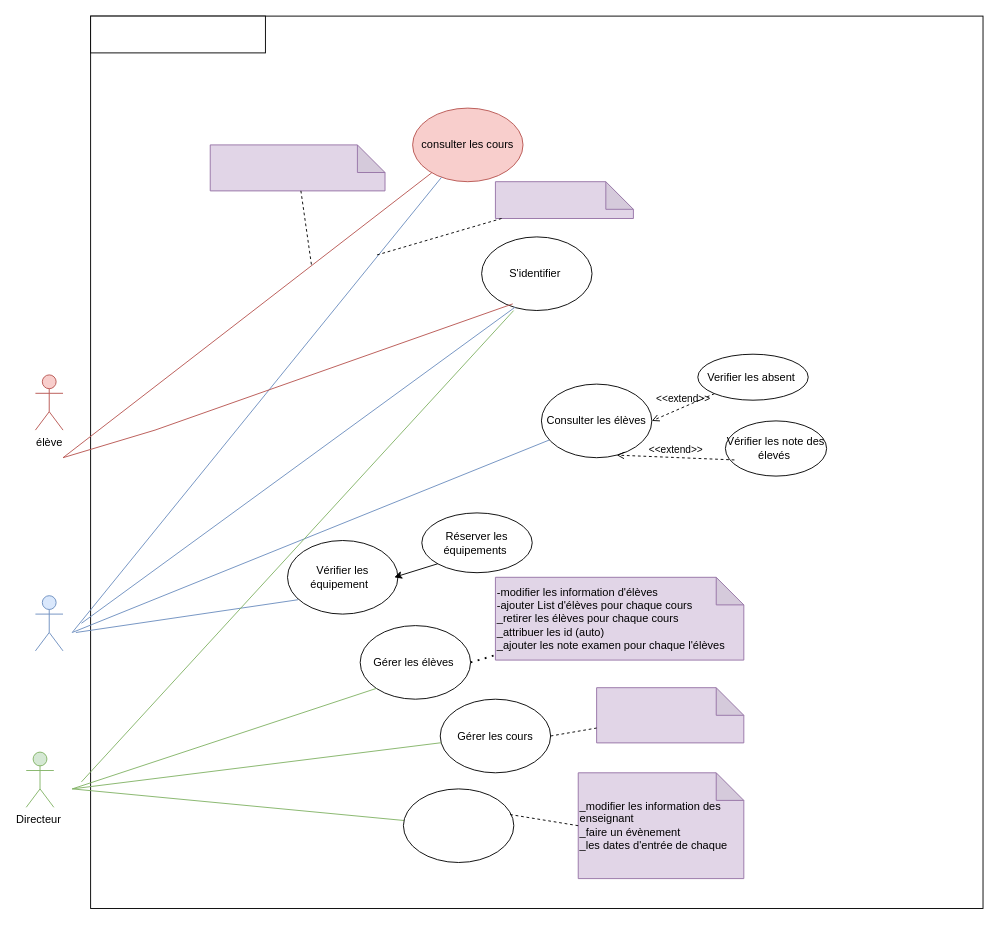
Some shapes in this 999 by 925 pixel diagram are drawn without their labels. Here are the shapes that lost their labels. From the top down, the centre of each, then its label:
At (x=177, y=34): "Gestion d'école".
At (x=297, y=167): "_ par un agenda _par les matières".
At (x=563, y=199): "_par un agenda".
At (x=48, y=623): "enseignant".
At (x=670, y=715): "_modifier, ajouter et supprimer les cours _par un agenda".
At (x=458, y=825): "Gérer les enseignant".
